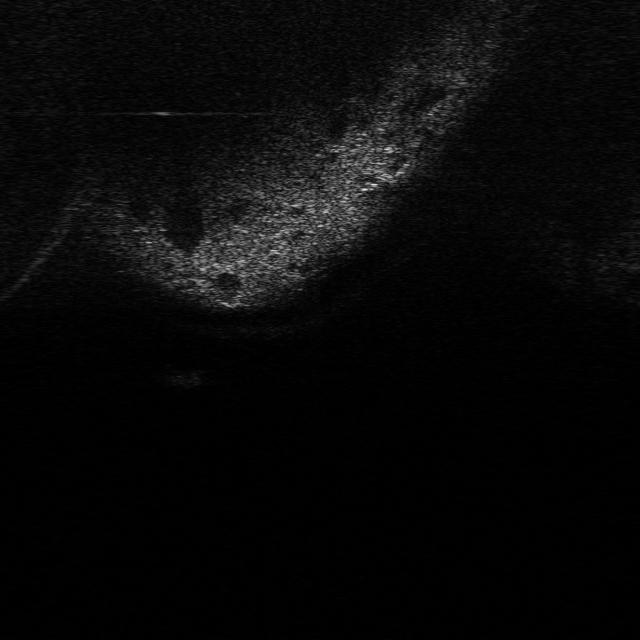cube: (154, 365, 207, 393)
